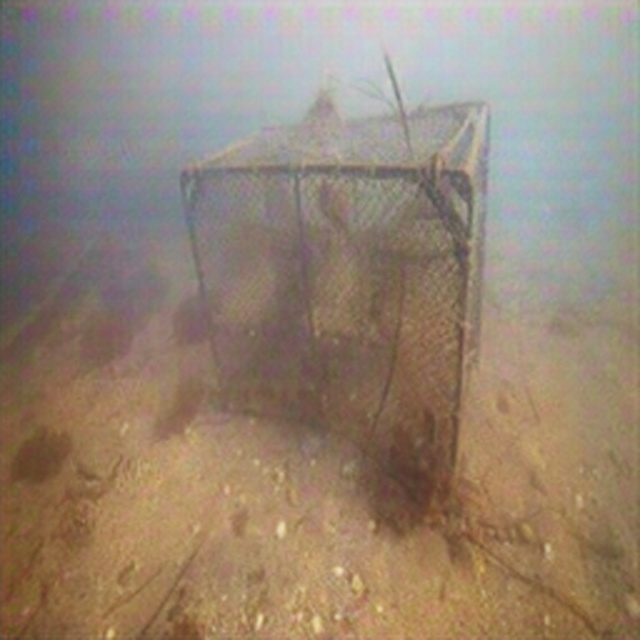mine: (177, 93, 490, 526)
